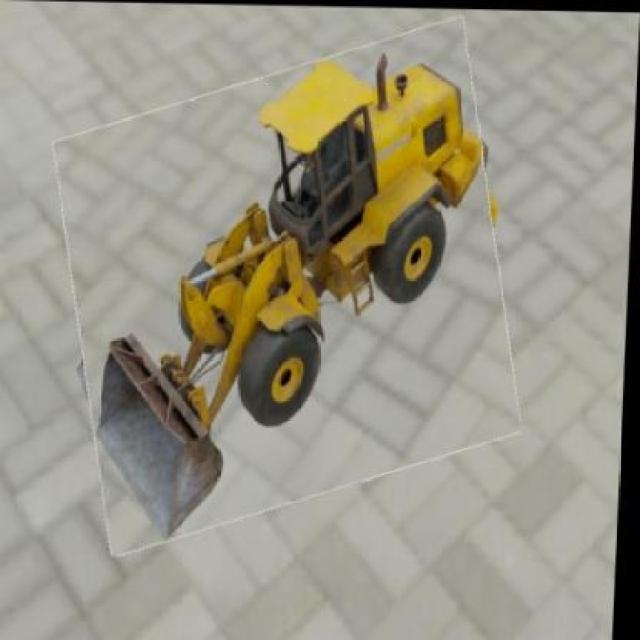buldozerpayloadergrader: (94, 56, 486, 538)
